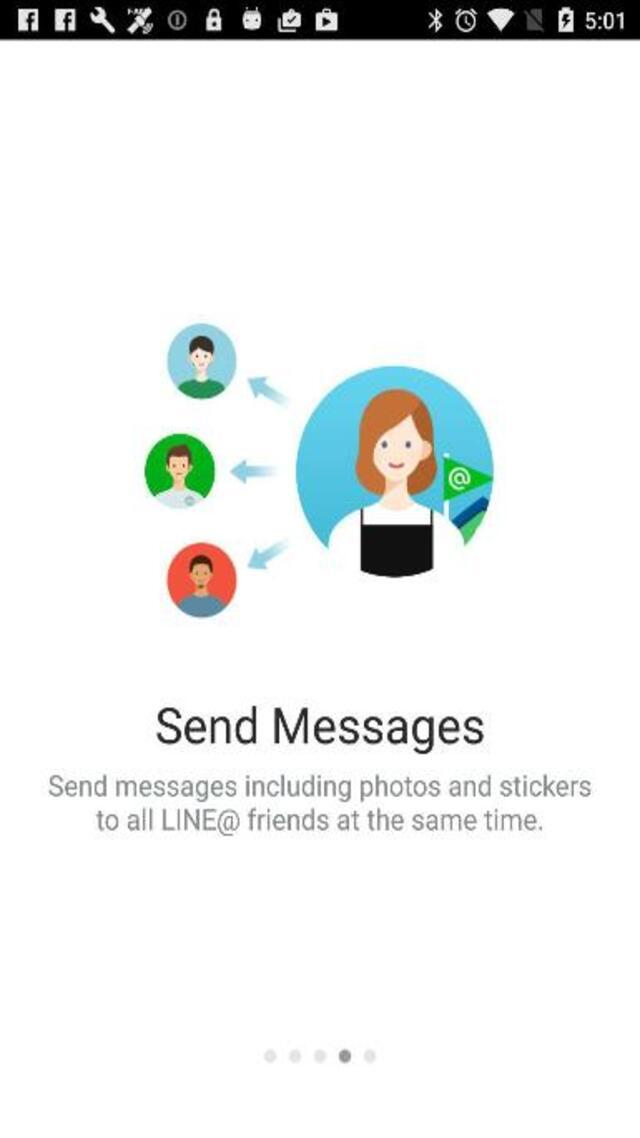Image: (143, 321, 494, 618)
Text: (155, 704, 482, 754), (47, 773, 593, 801), (89, 805, 545, 837)
